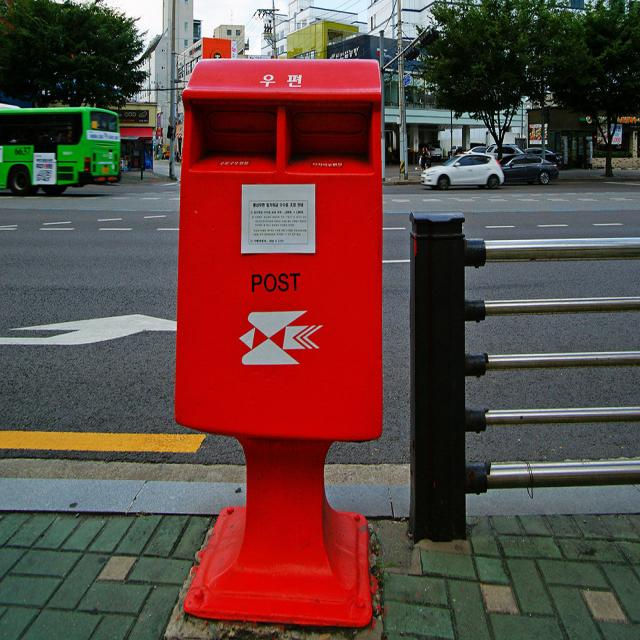Post Box: (176, 55, 384, 633)
